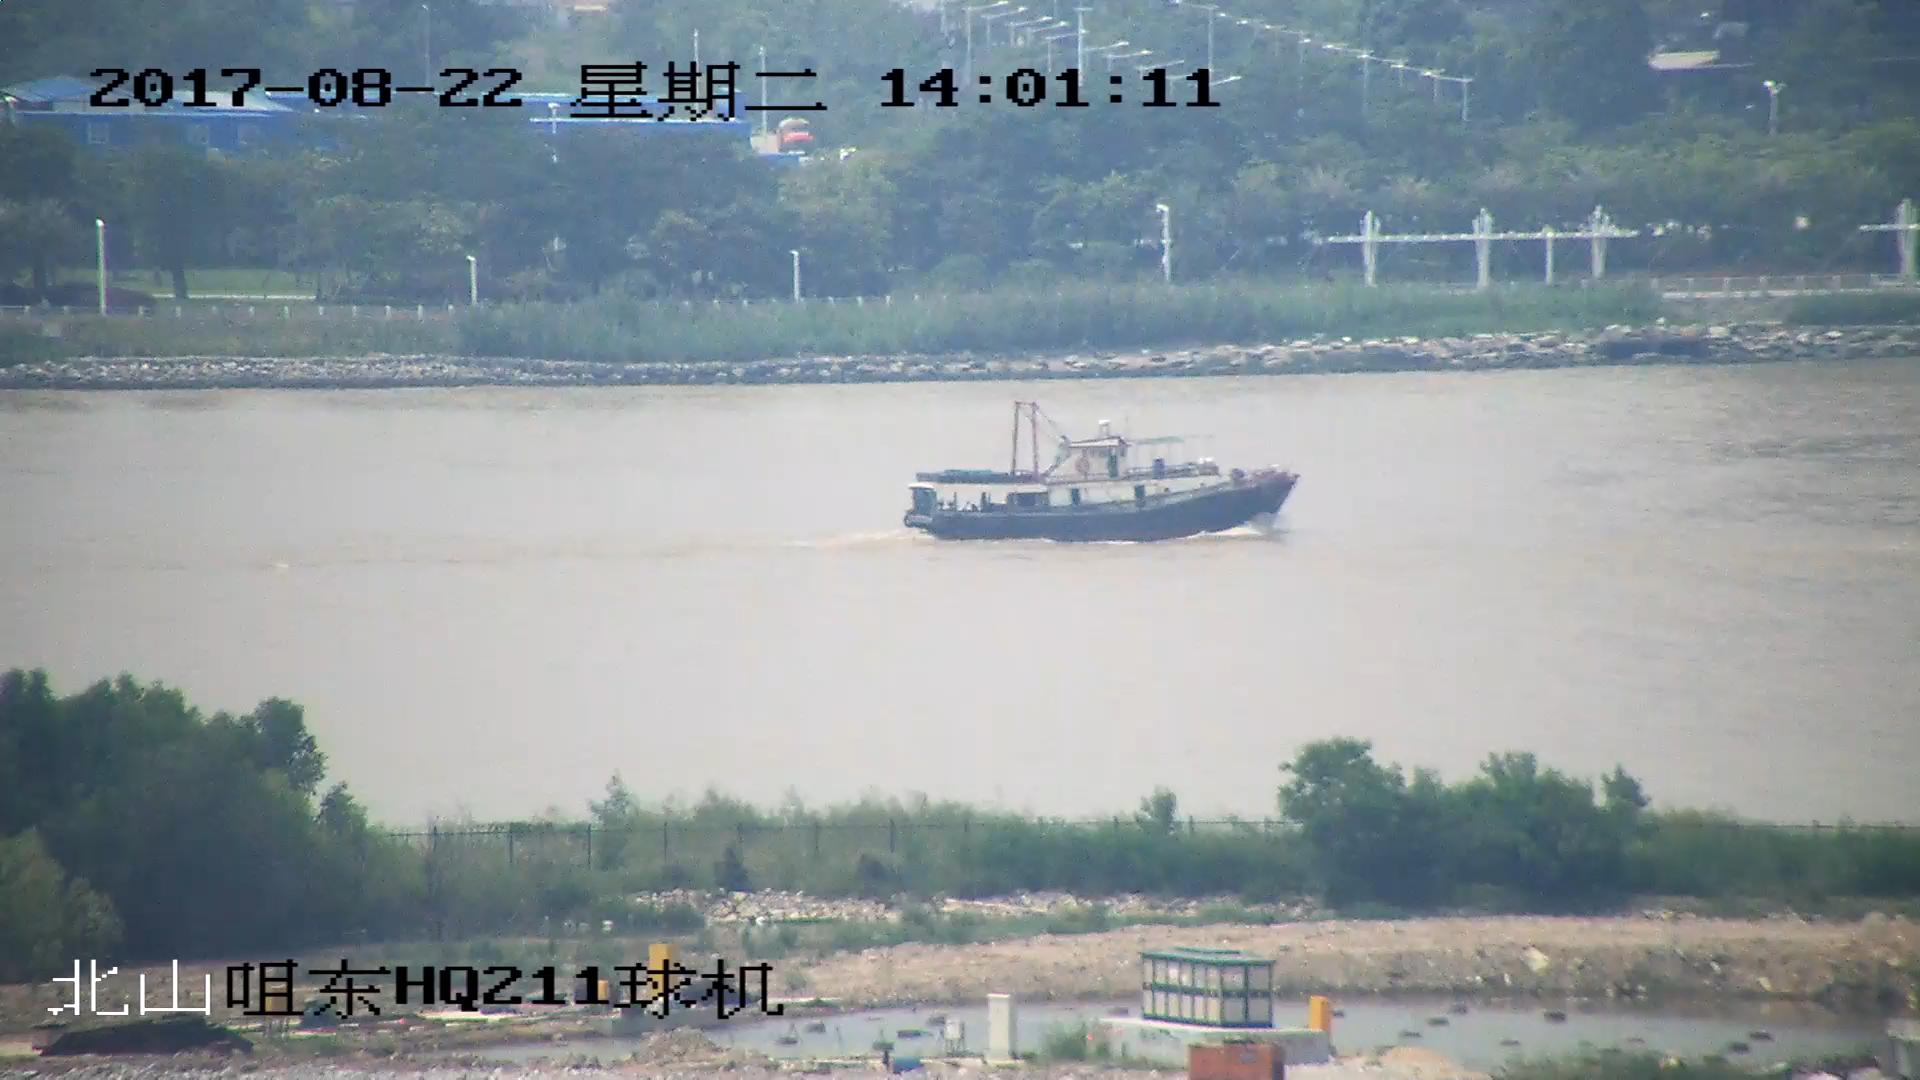fishing boat: (904, 403, 1297, 546)
